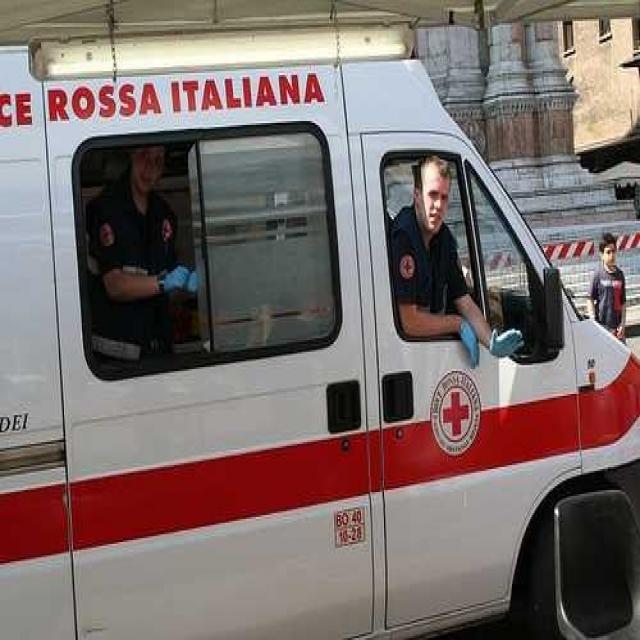emergency-vehicle: (7, 15, 638, 623)
